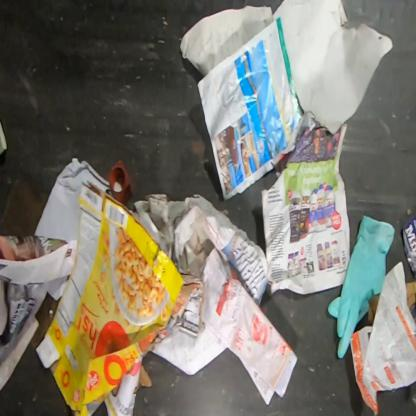cardboard: (35, 179, 185, 416), (367, 293, 379, 322), (405, 281, 415, 310)
rigid_plastic: (105, 158, 134, 207)
soft_plastic: (327, 214, 395, 360)
